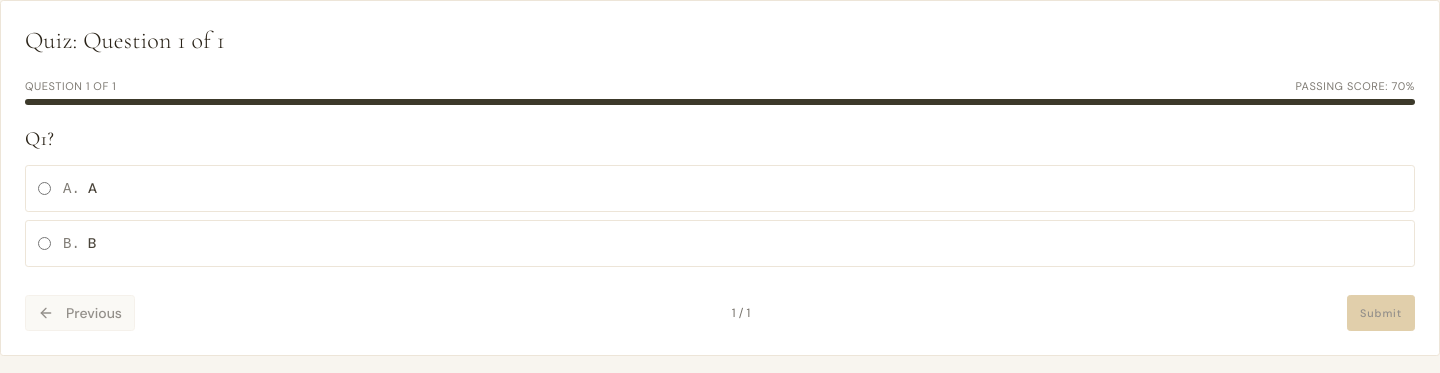
Test: QuizCard immediate result › renders the edge function's score immediately without waiting for refetch
Expected: the heading "Quiz: Question 1 of 1" is shown, [25,26,225,55]
What coordinates should you click on to do the following:
click the radio button named "A: A"
I would click on:
 (44, 189)
Its box is [38,182,51,195].
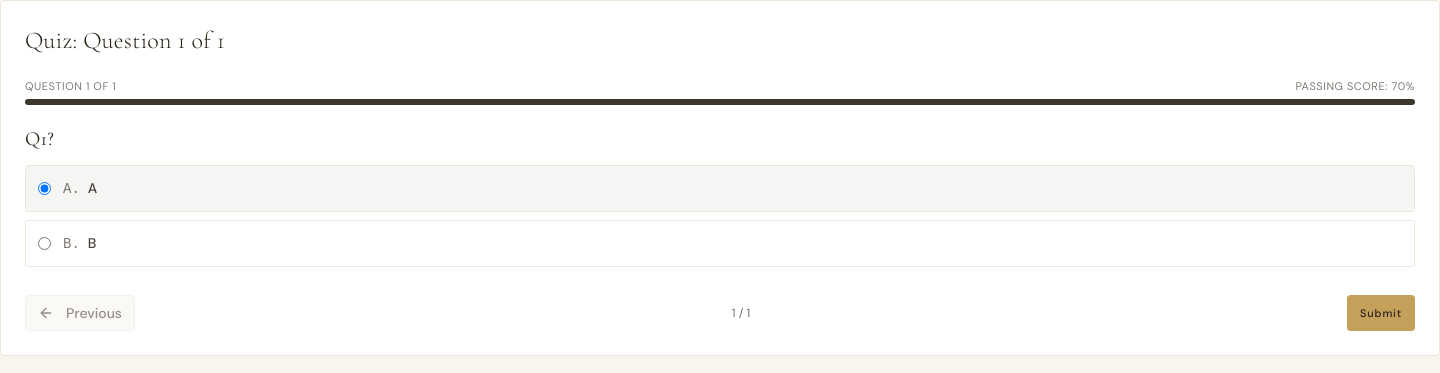
What coordinates should you click on to do the following:
click the button "Submit"
I would click on:
 (1381, 313)
Its box is [1347,295,1415,331].
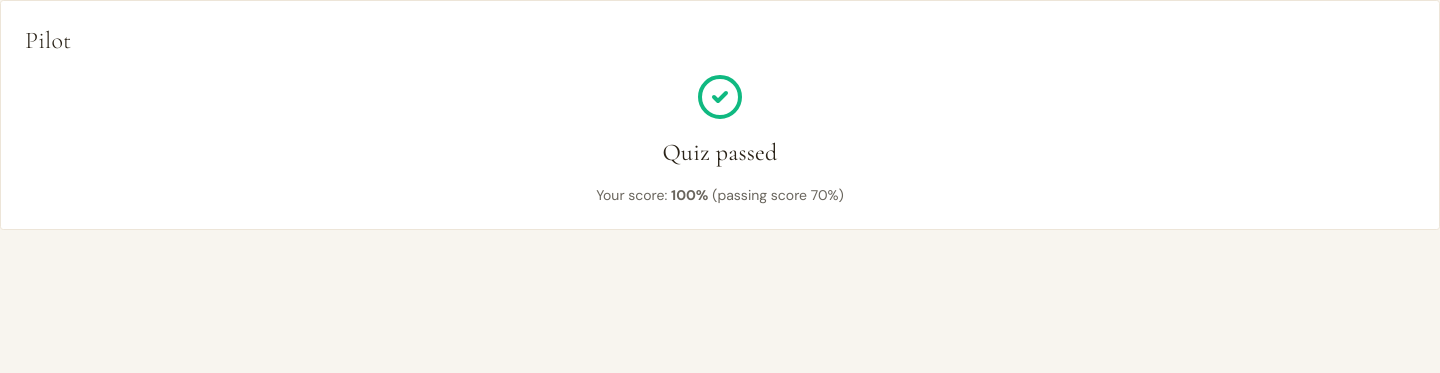
Expected: the heading "Quiz passed" is shown, [662,138,778,167]
Expected: the text "100%" is shown, [671,186,708,204]
